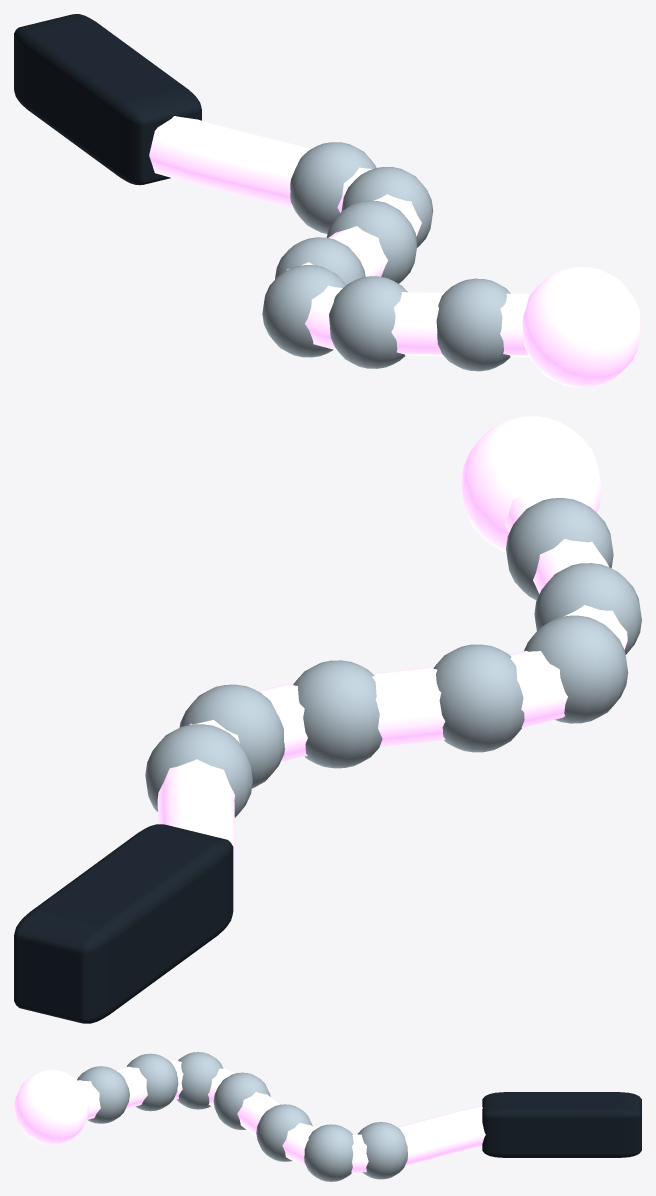
Rendered from whip-7.glb.
3 views of the same model, one above another, from view 1: azimuth 30°, elevation 25°; view 2: azimuth 150°, elevation 25°; view 3: azimuth 270°, elevation 25° (orthographic). The views are drawn at different scales.
Size of the model in its own units: 0.4752 by 0.2682 by 1.56.
